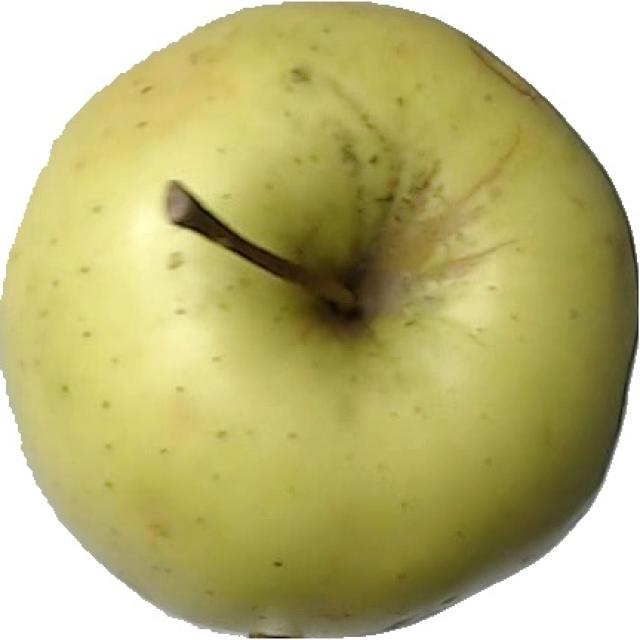Golden Elma: (1, 6, 640, 640)
